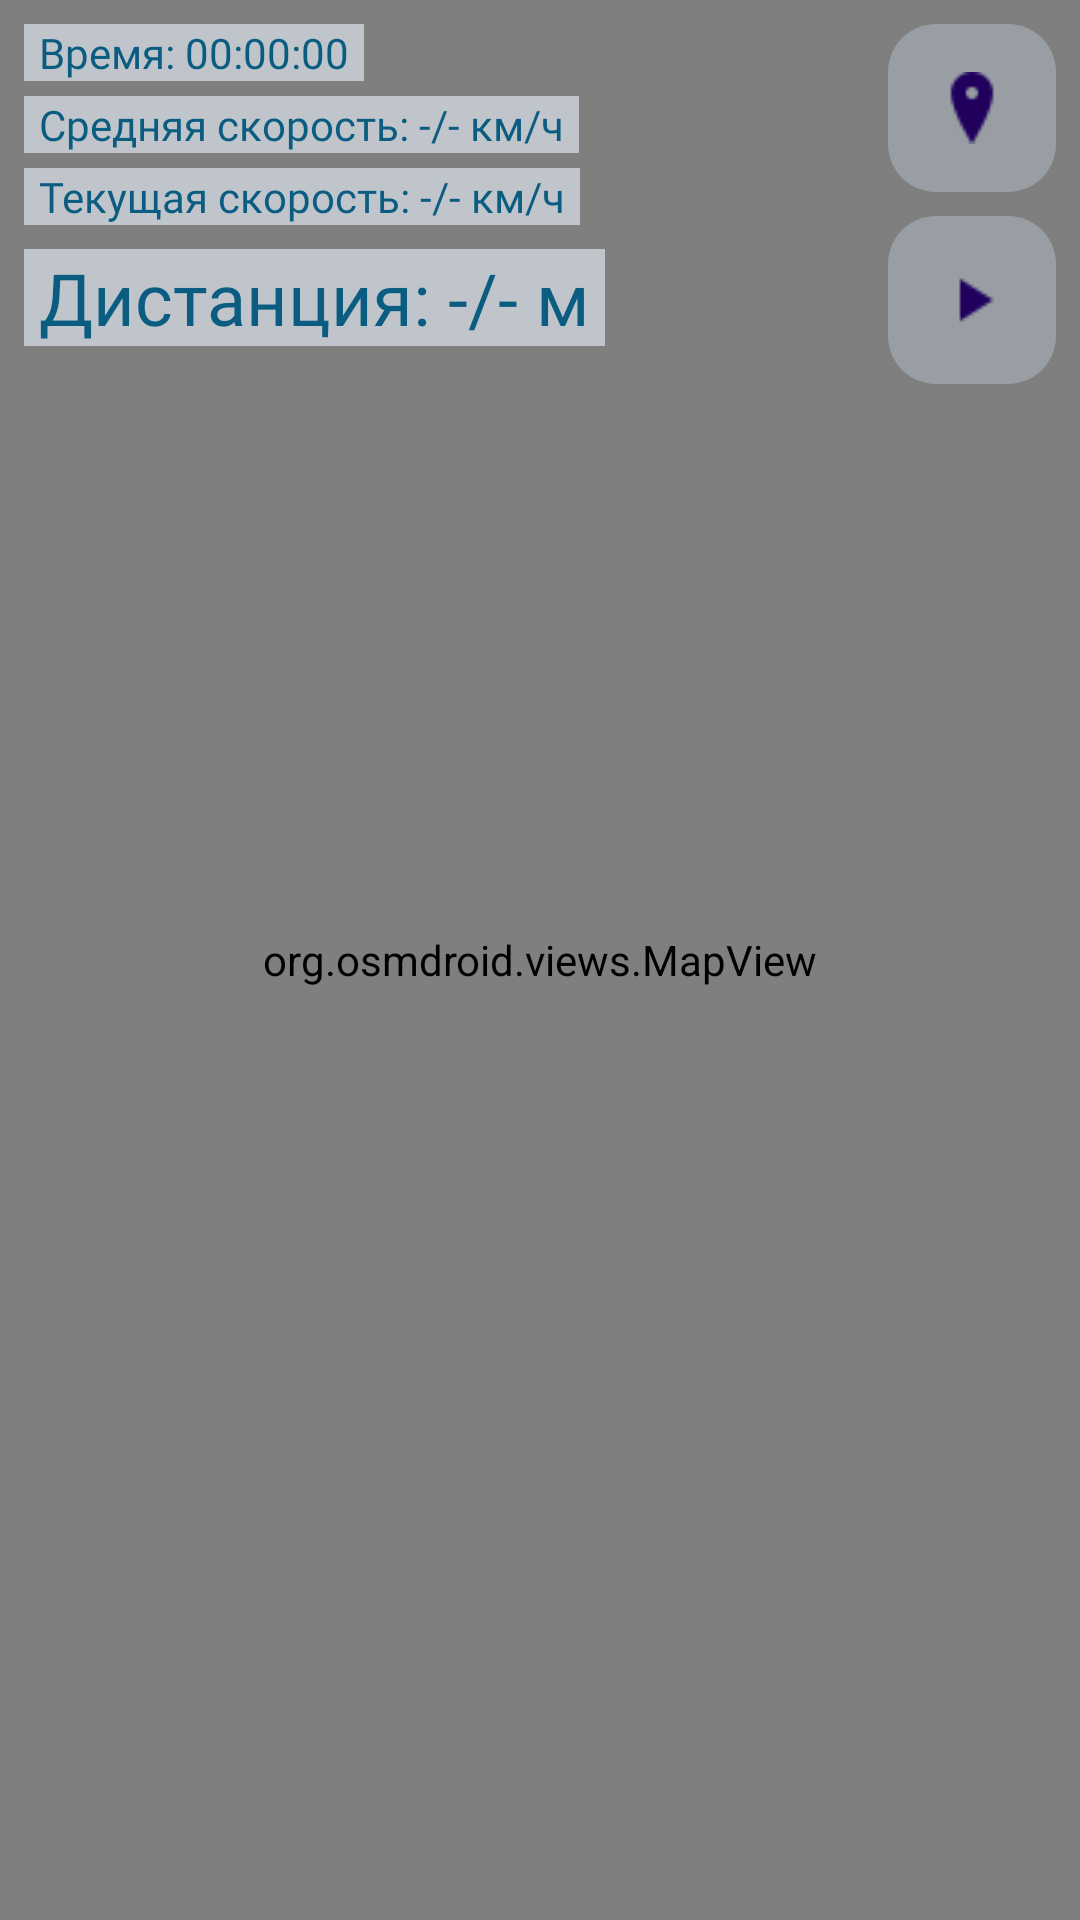

Icons on this 1080 × 1920 Android screen, each with its box as [left=x1, top=y1, right=x2, bottom=y2]:
location: [left=888, top=24, right=1056, bottom=192]
play: [left=888, top=216, right=1056, bottom=384]
